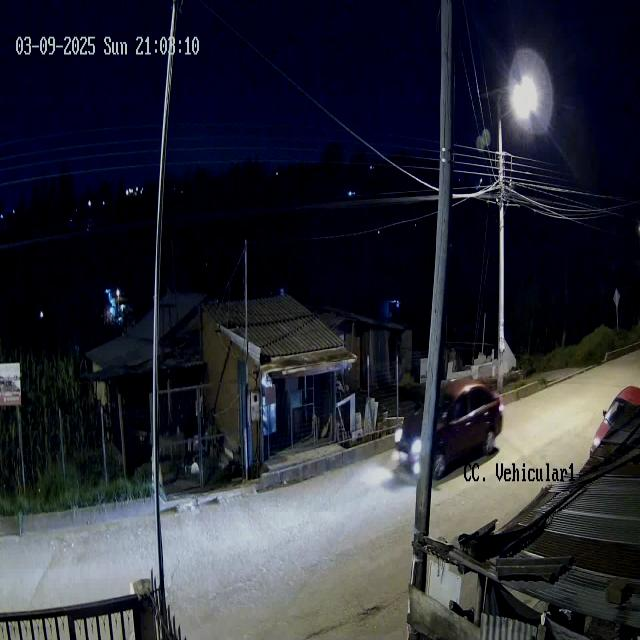SED: (393, 376, 505, 483)
